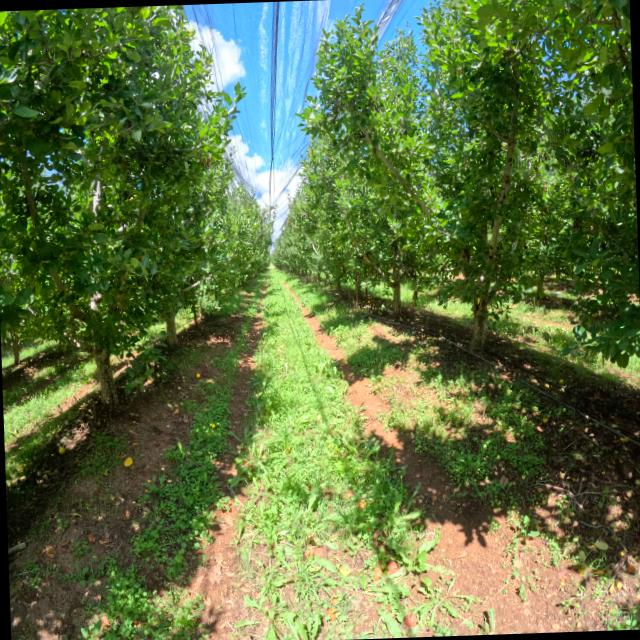-FireBlight-: (199, 154, 211, 166)
